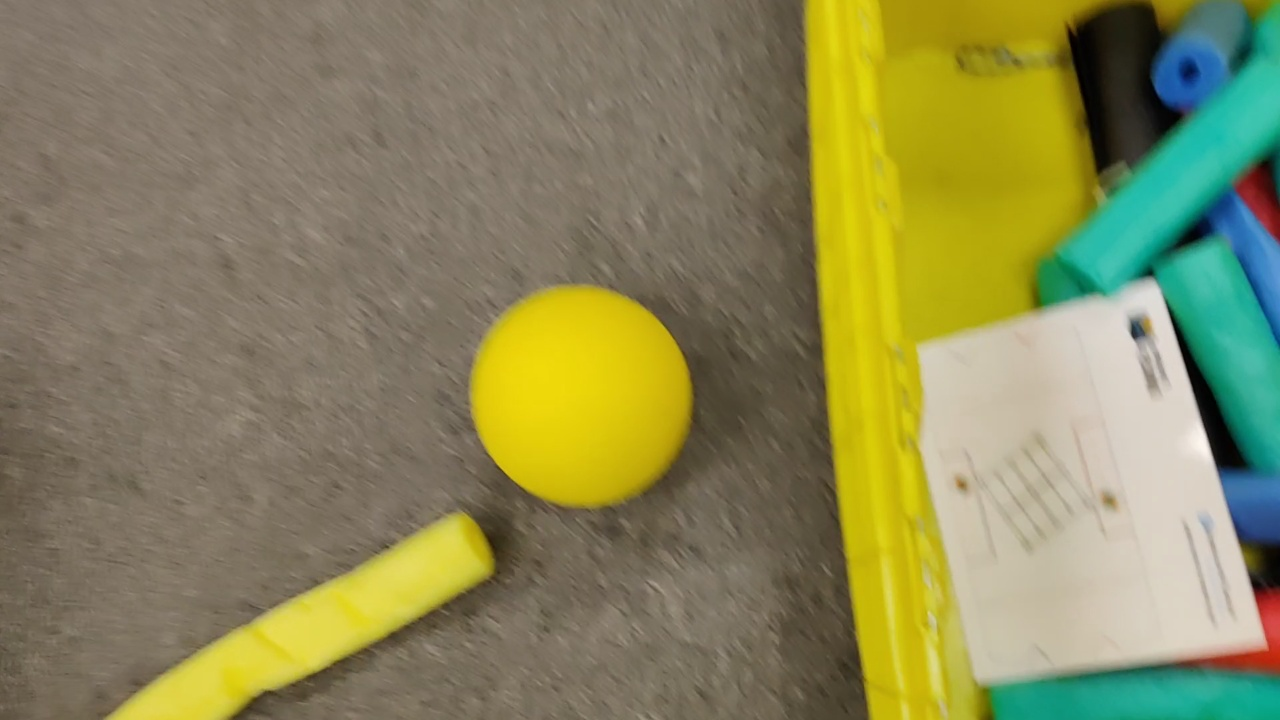Ball: (471, 288, 703, 513)
